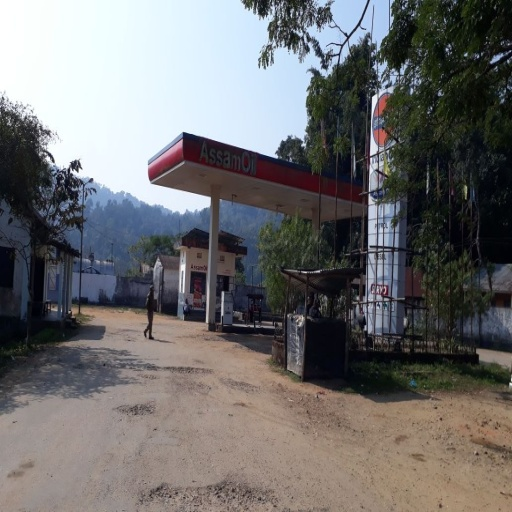roof: (145, 130, 374, 226)
